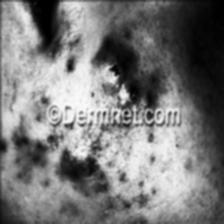Non-Cancerous Skin Condition: (0, 120, 103, 201), (114, 143, 172, 224), (90, 35, 157, 105)
